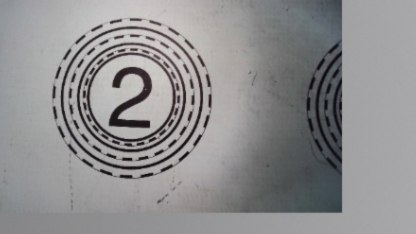2r: (50, 16, 212, 178)
